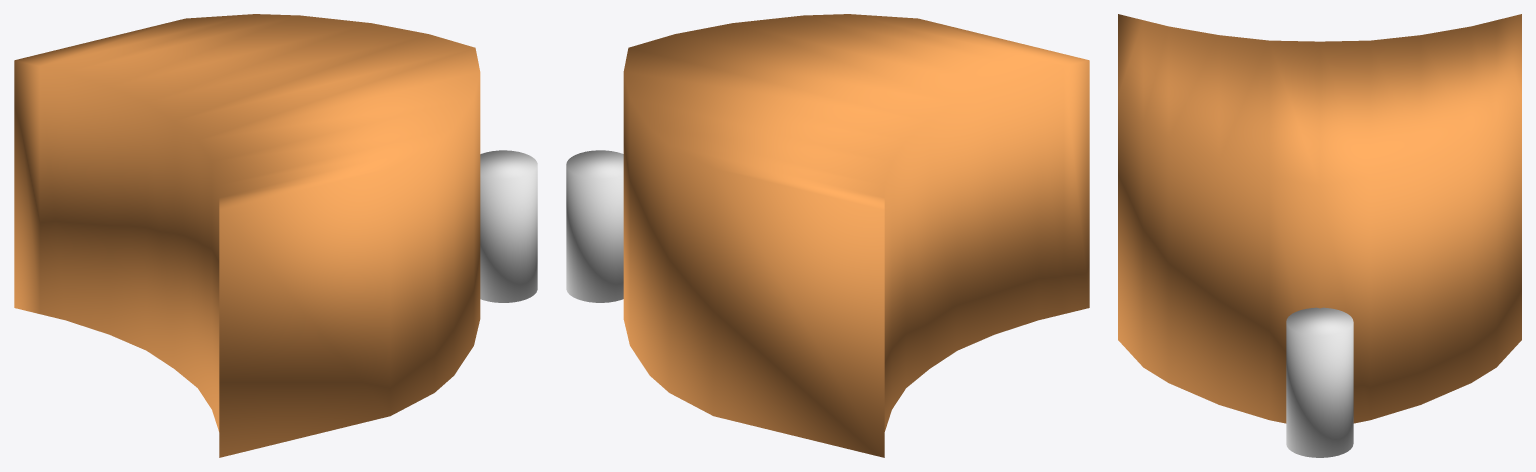
Rendered from NOR.glb.
The picture shows the model from 3 angles, left to right: view 1: azimuth 30°, elevation 25°; view 2: azimuth 150°, elevation 25°; view 3: azimuth 270°, elevation 25°; orthographic projection.
Visible parts, largest first — view 1: 3, Cot3; view 2: 3, Cot3; view 3: 3, Cot3.
Boxes of the visible parts, left/top/right/bottom form: 3: left=14, top=14, right=480, bottom=457; Cot3: left=480, top=150, right=537, bottom=302; 3: left=623, top=14, right=1089, bottom=457; Cot3: left=566, top=150, right=623, bottom=302; 3: left=1118, top=14, right=1521, bottom=423; Cot3: left=1286, top=307, right=1353, bottom=457.
Bounding box in the file's own units: 3.52 × 2 × 3.
